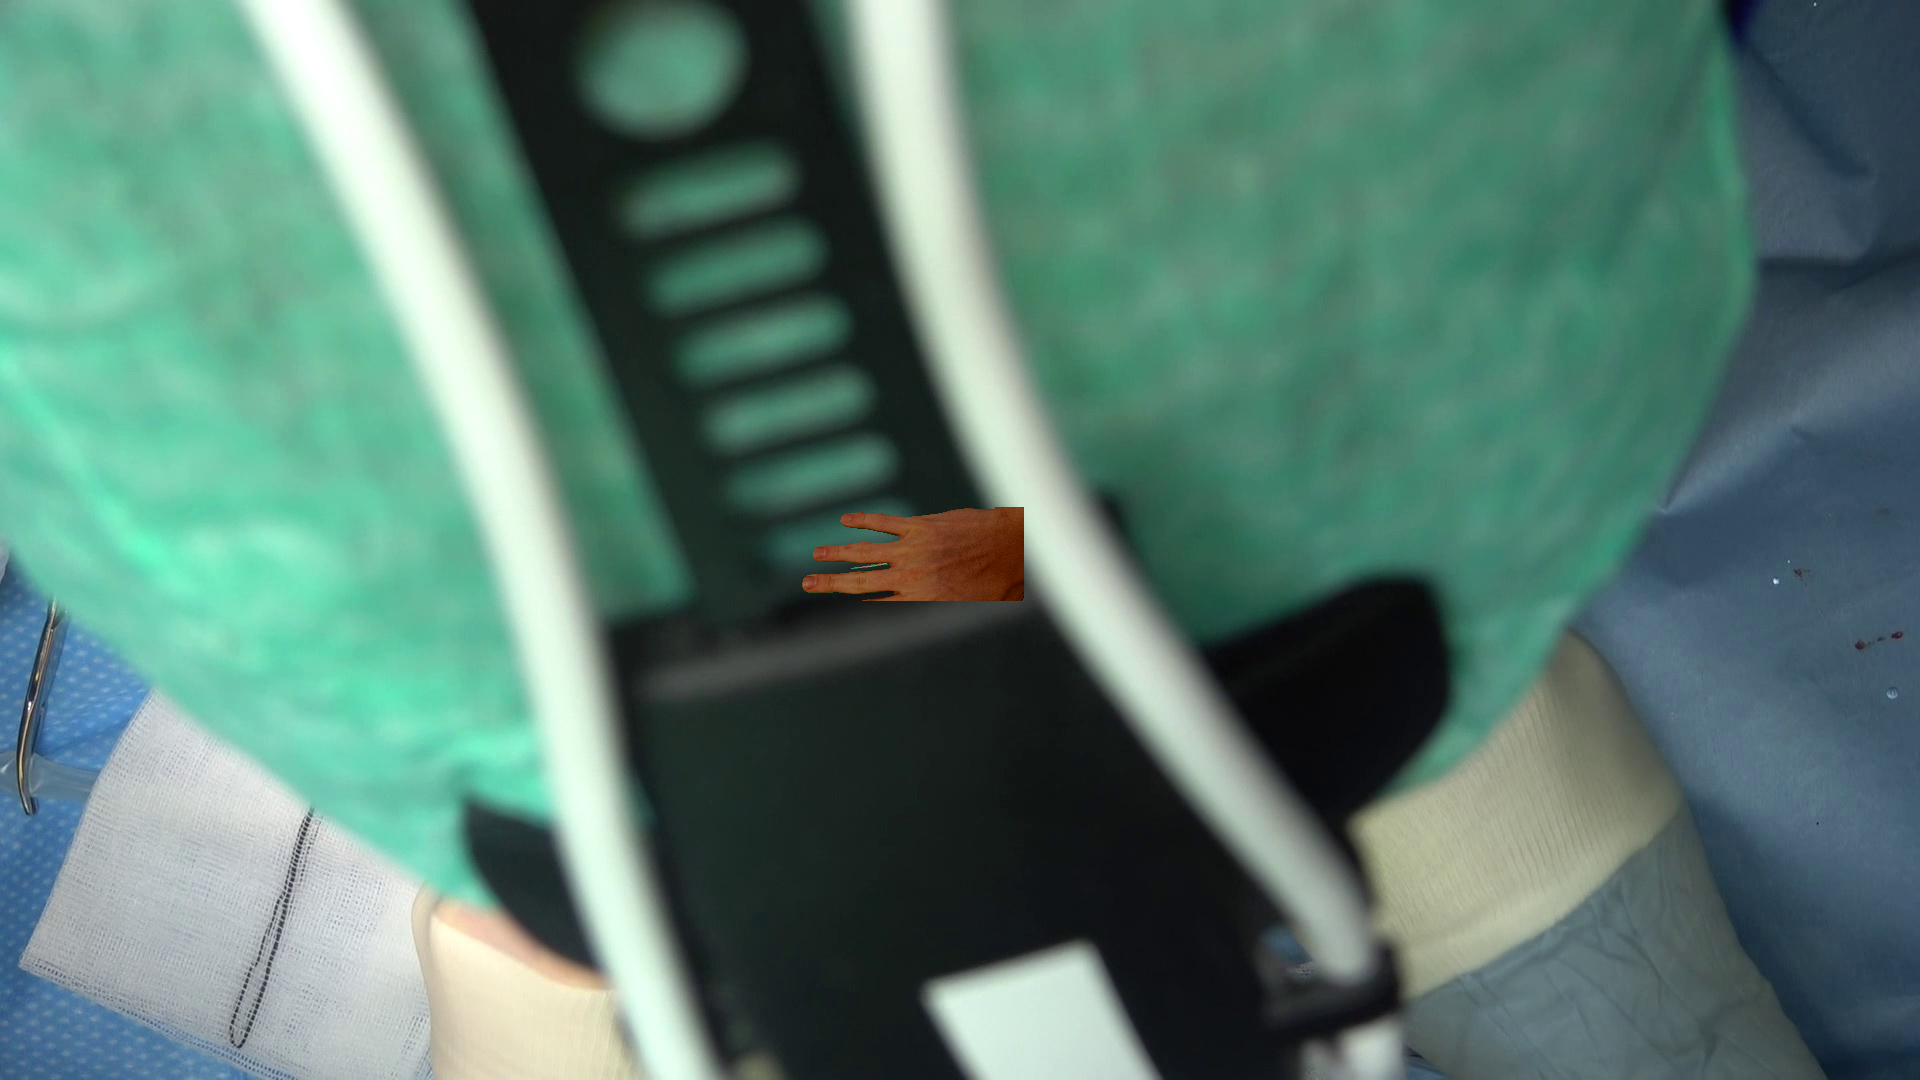forceps: (851, 563, 887, 568)
